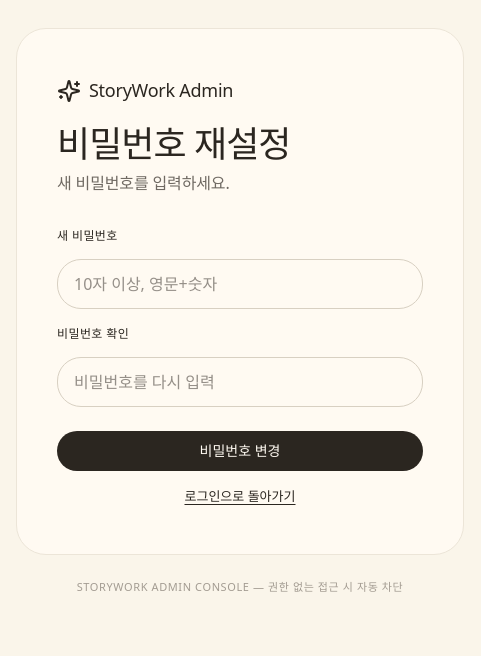
Scenario: ResetPasswordPage › updateUser 실패 시 에러 메시지를 표시한다
Type "newpassword123" into the password field labelled "새 비밀번호" at (240,284), box [57,259,423,309]
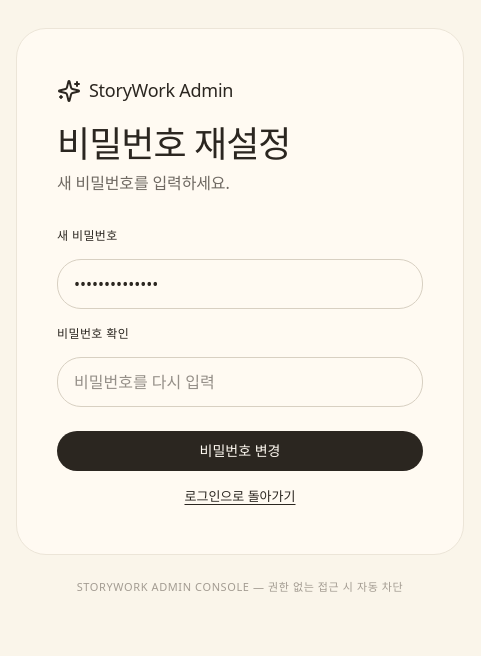
Type "newpassword123" into the password field labelled "비밀번호 확인" at (240,382), box [57,357,423,407]
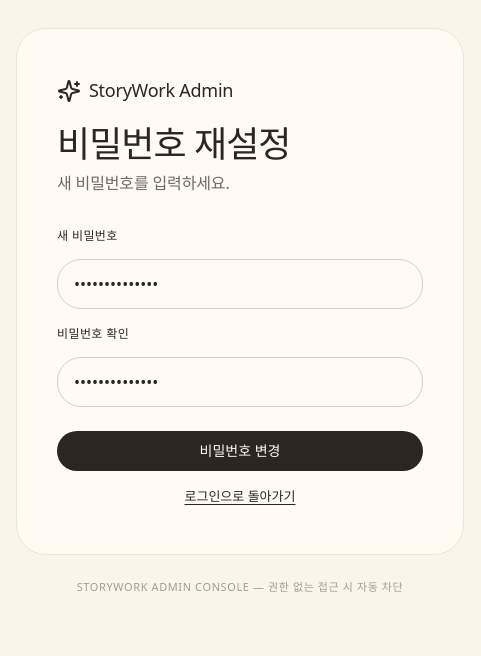
Click the button "비밀번호 변경" at (240,451), box [57,431,423,471]
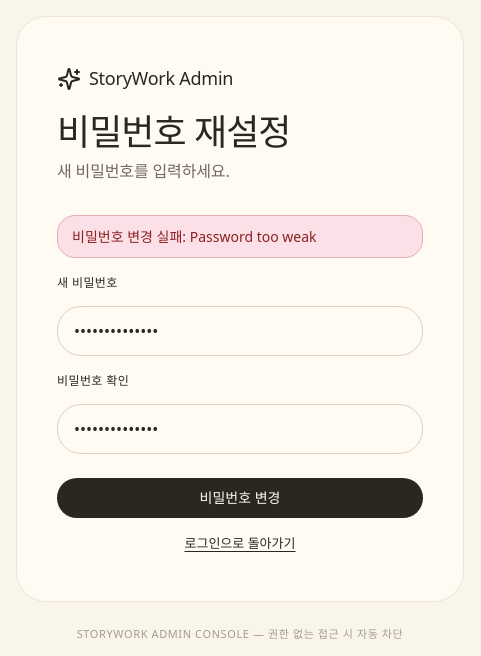
Check: the text "비밀번호 변경 실패: Password too weak" is shown, box [57,215,423,258]
